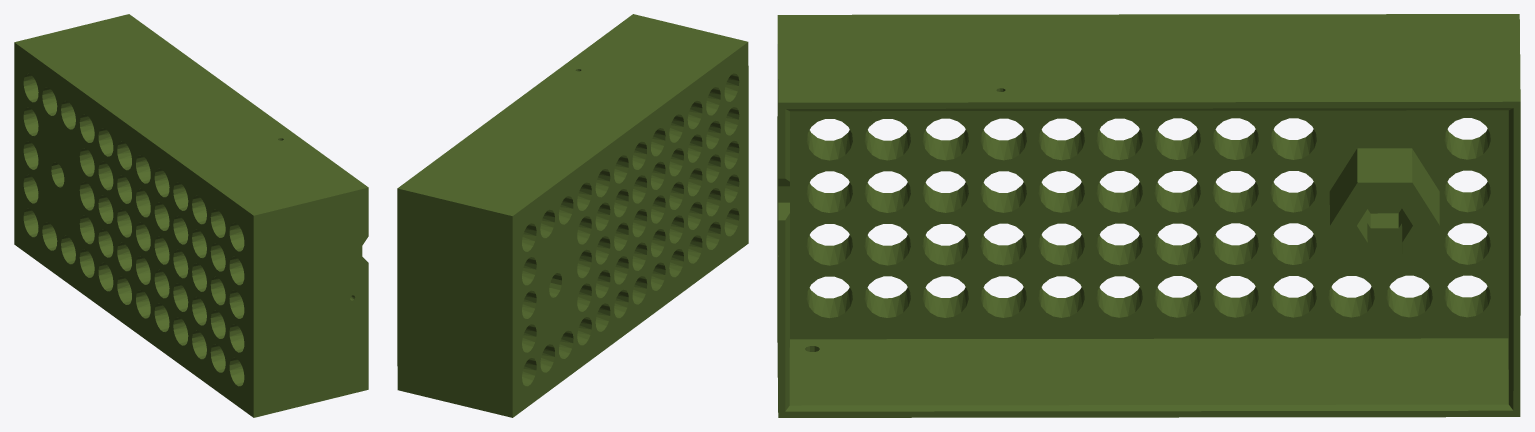
File: converted_Downdraft_Assy_14_52692bff.obj
The picture shows the model from 3 angles, left to right: view 1: azimuth 30°, elevation 25°; view 2: azimuth 150°, elevation 25°; view 3: azimuth 270°, elevation 25°; orthographic projection. The views are drawn at different scales.
Bounding box in the file's own units: 0.0908 × 0.1502 × 0.3204.
